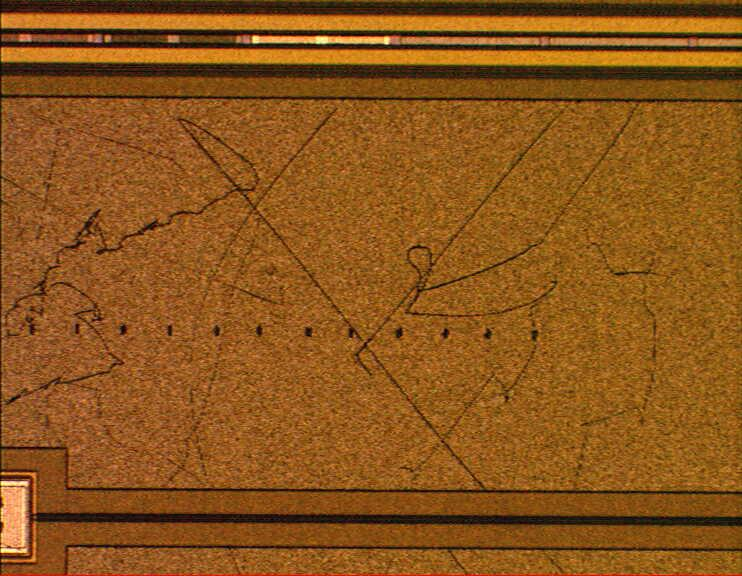SCRATCH: (1, 97, 680, 576)
